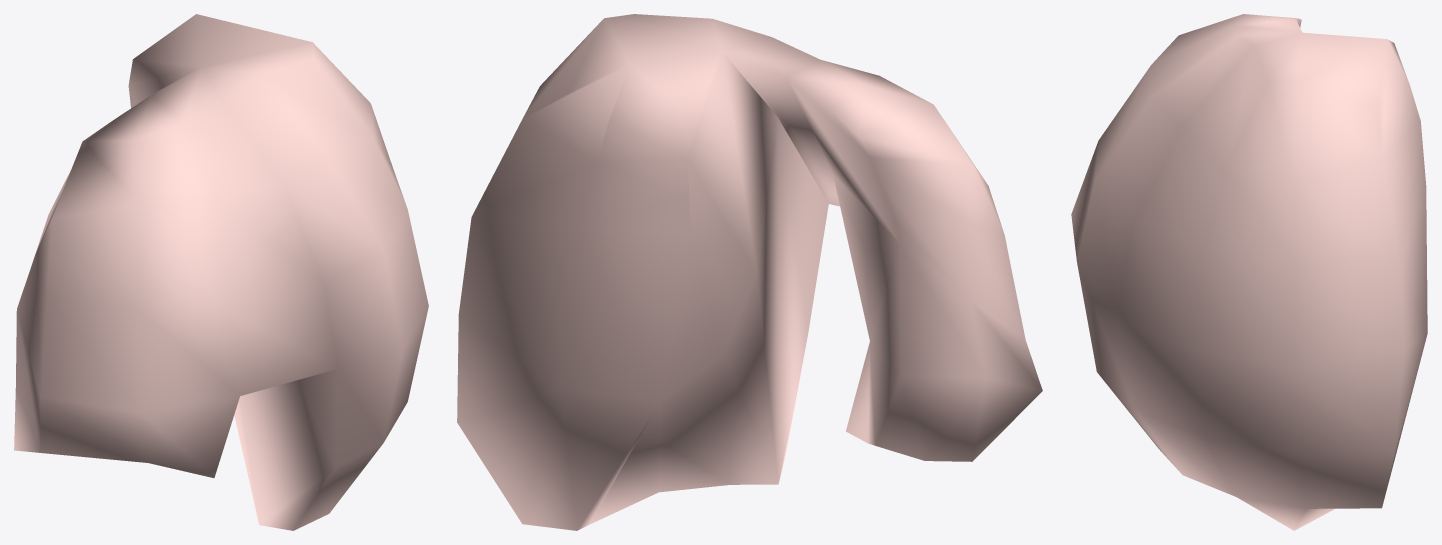
The model's file is hand_left.gltf.
3 views of the same model, side by side, from view 1: azimuth 30°, elevation 25°; view 2: azimuth 150°, elevation 25°; view 3: azimuth 270°, elevation 25° (orthographic). The views are drawn at different scales.
Visible parts, largest first — view 1: Hands; view 2: Hands; view 3: Hands.
Boxes of the visible parts, x1=… form: Hands: x1=14, y1=14, x2=428, y2=530; Hands: x1=457, y1=14, x2=1042, y2=530; Hands: x1=1071, y1=14, x2=1427, y2=530.
Size of the model in its own units: 0.5658 by 0.5824 by 0.4163.
Materials: 1 (1 with a texture image).
